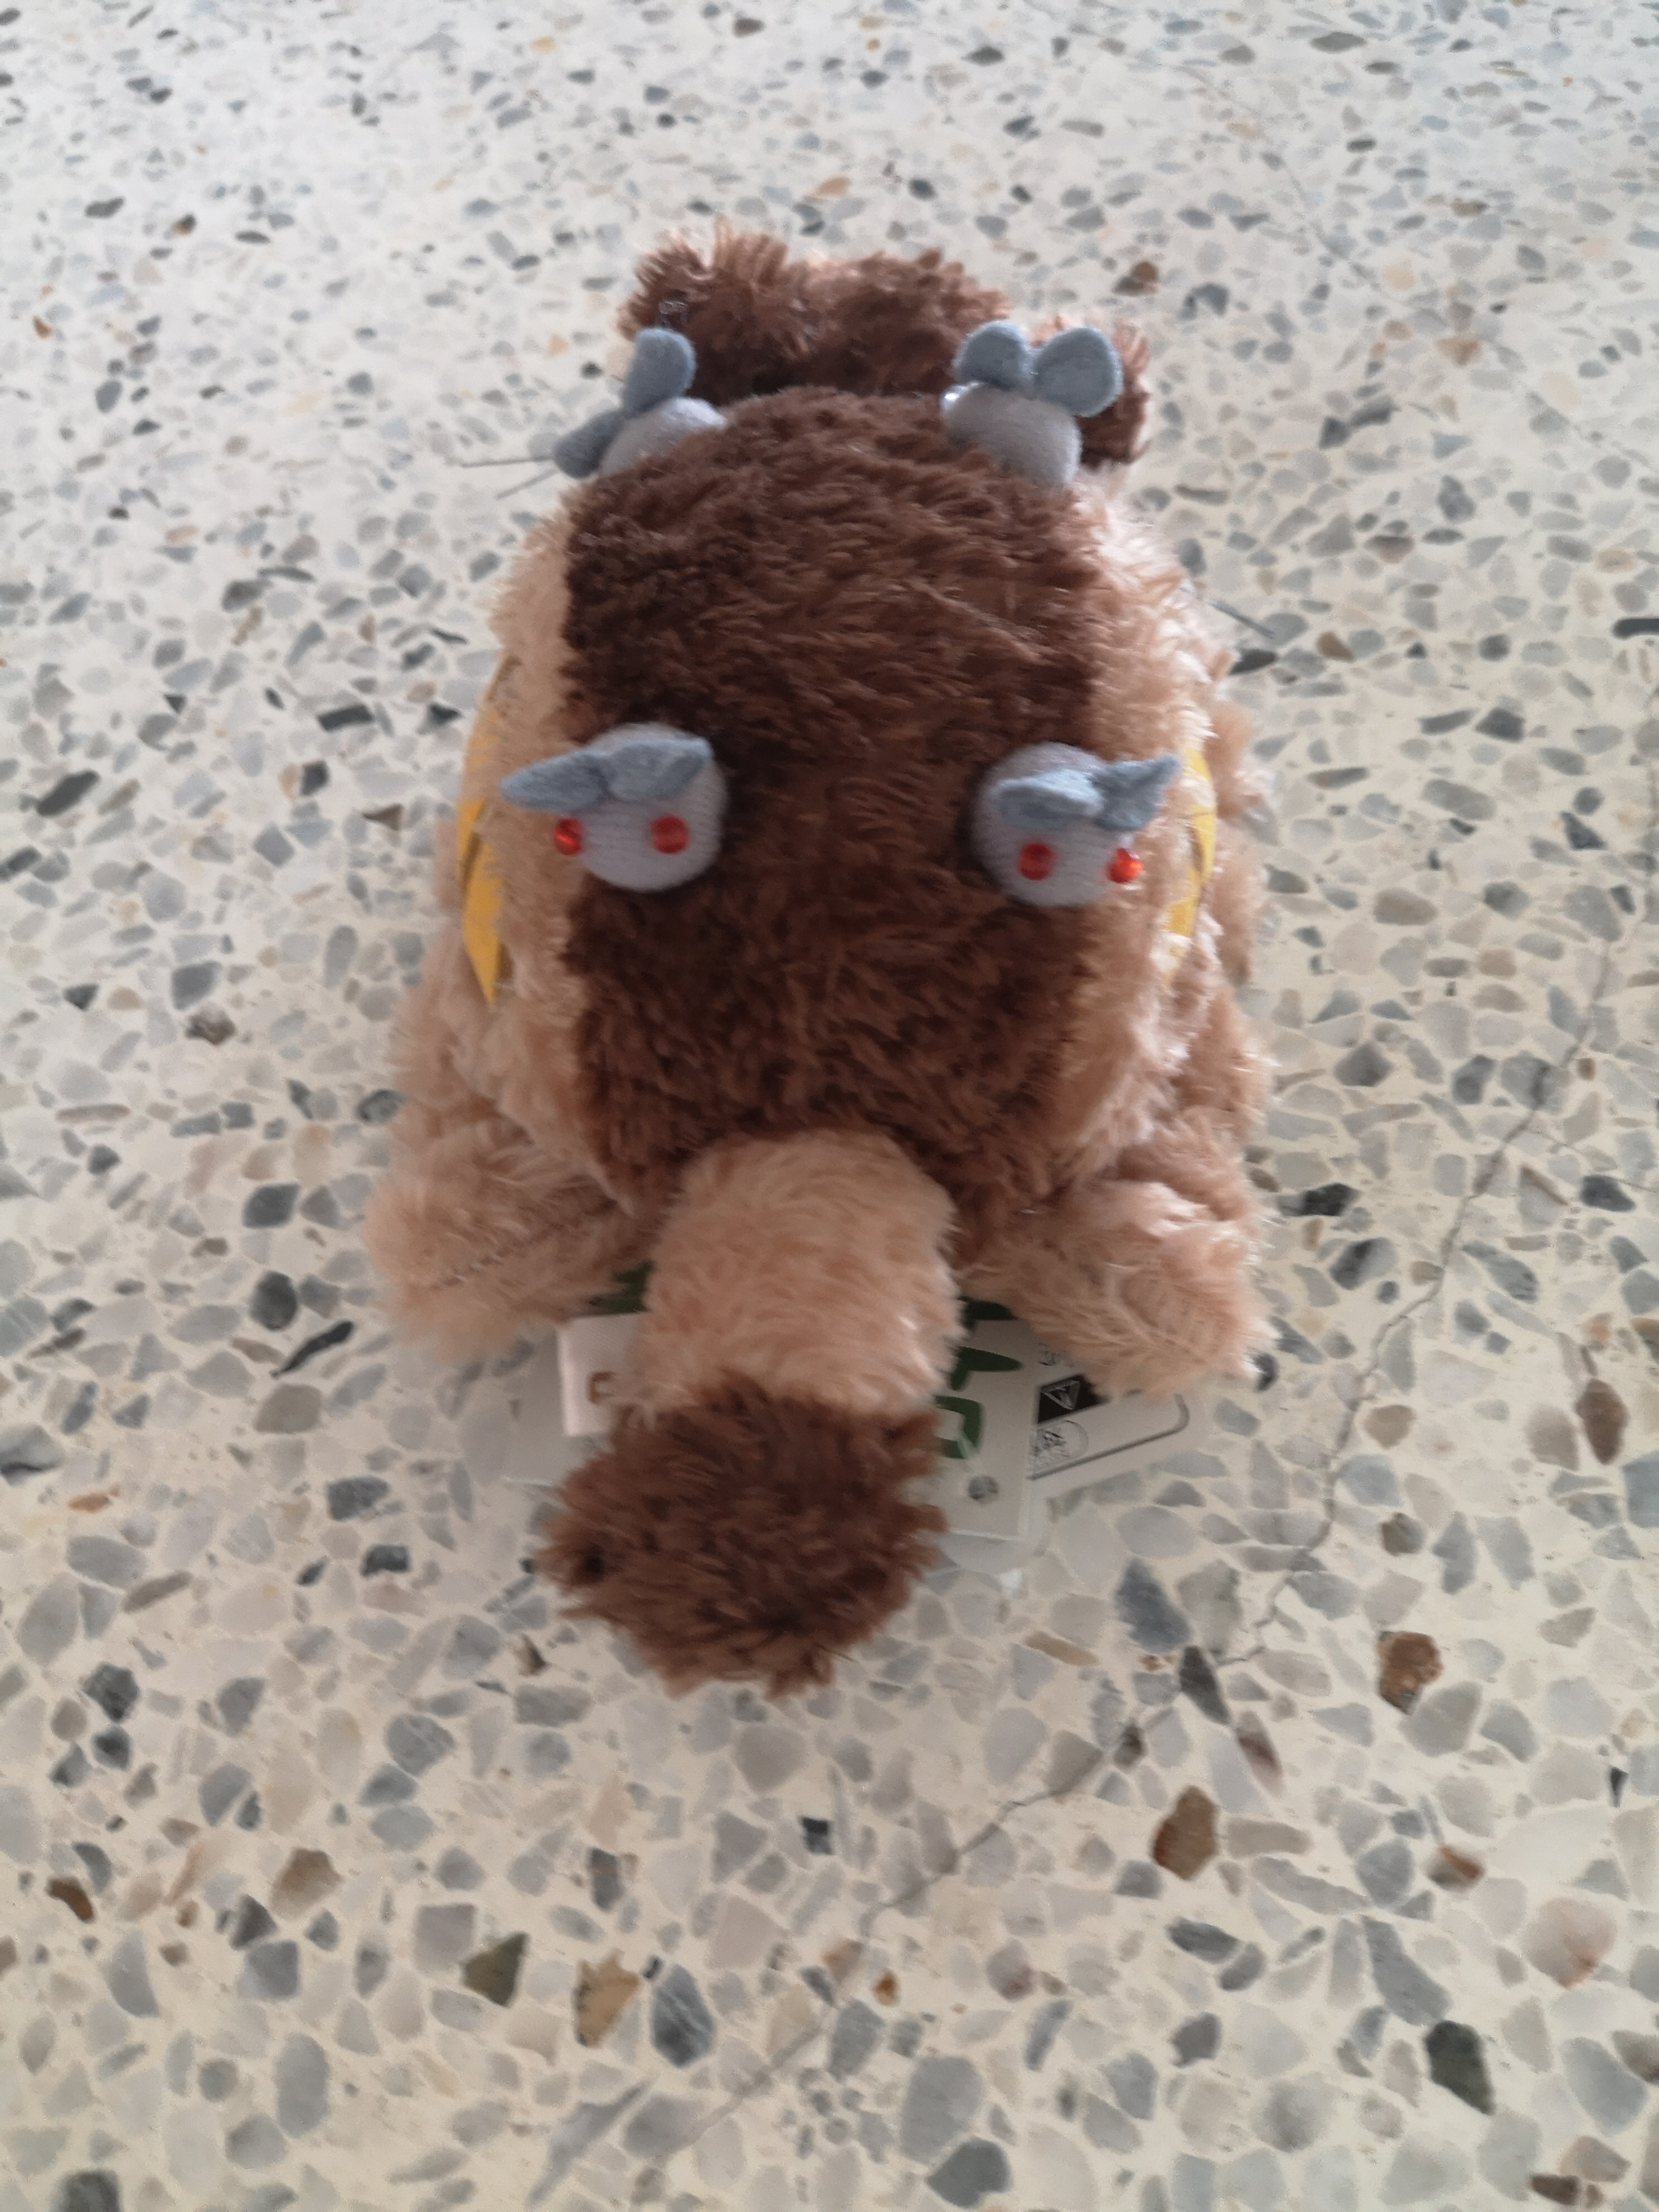nekobus: (335, 211, 1284, 1707)
